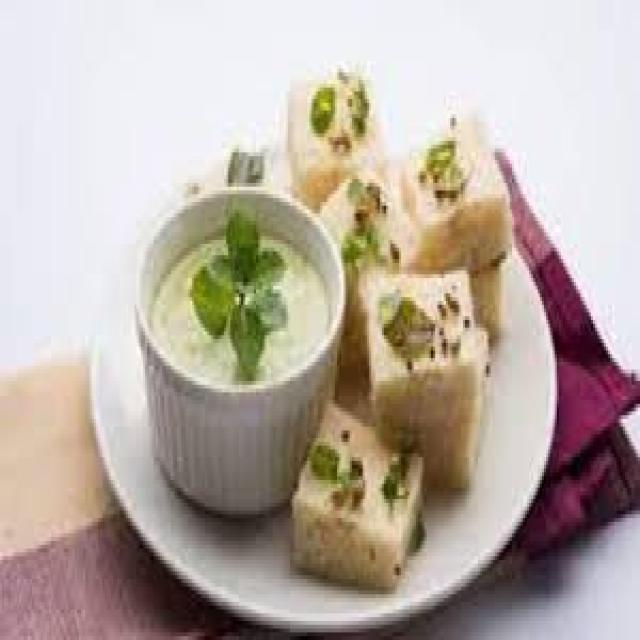DHOKLA: (295, 403, 423, 589), (361, 259, 481, 433), (395, 106, 507, 281), (284, 69, 381, 198)
